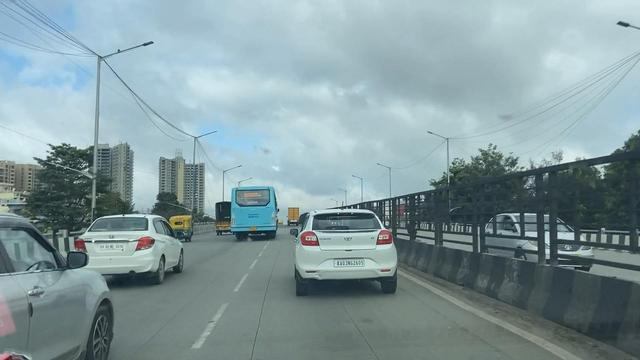HMV: (228, 179, 282, 250)
LMV: (0, 205, 125, 360), (287, 205, 422, 304)
